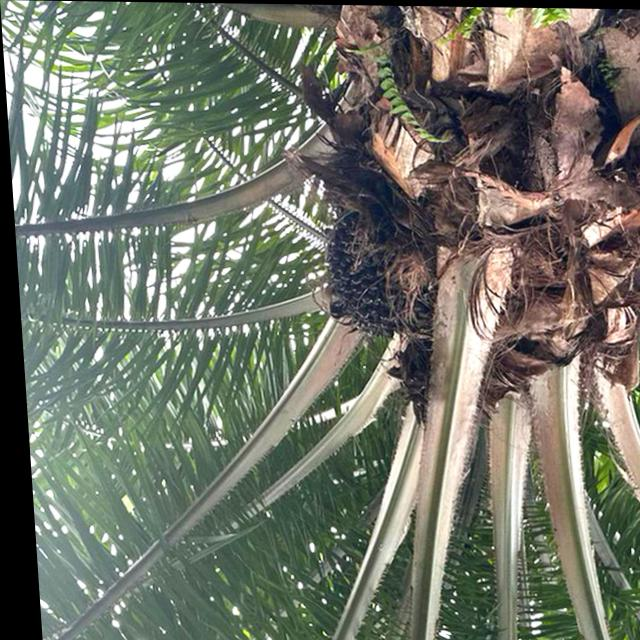unripe: (310, 206, 436, 338)
